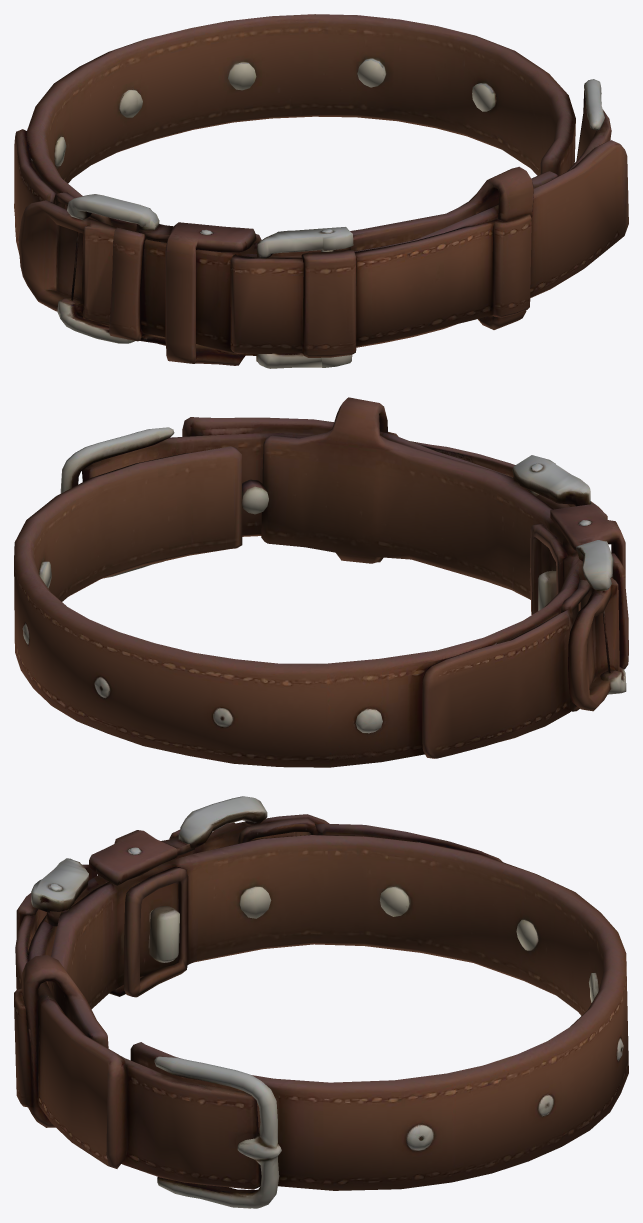
File: leash.glb
3 renders of one model, top to bottom at view 1: azimuth 30°, elevation 25°; view 2: azimuth 150°, elevation 25°; view 3: azimuth 270°, elevation 25°, orthographic. The views are drawn at different scales.
Parts seen in each view (by area): view 1: tripo_node_258a4dfc-22a1-4d58-a19e-39e502fcc58c; view 2: tripo_node_258a4dfc-22a1-4d58-a19e-39e502fcc58c; view 3: tripo_node_258a4dfc-22a1-4d58-a19e-39e502fcc58c.
Boxes of the visible parts, x1,y1,x2,y2 form: tripo_node_258a4dfc-22a1-4d58-a19e-39e502fcc58c: (14,14,628,368); tripo_node_258a4dfc-22a1-4d58-a19e-39e502fcc58c: (14,397,628,767); tripo_node_258a4dfc-22a1-4d58-a19e-39e502fcc58c: (14,796,628,1208).
Bounding box in the file's own units: 0.998 × 0.2598 × 0.8965.
1 material, 1 textured.
